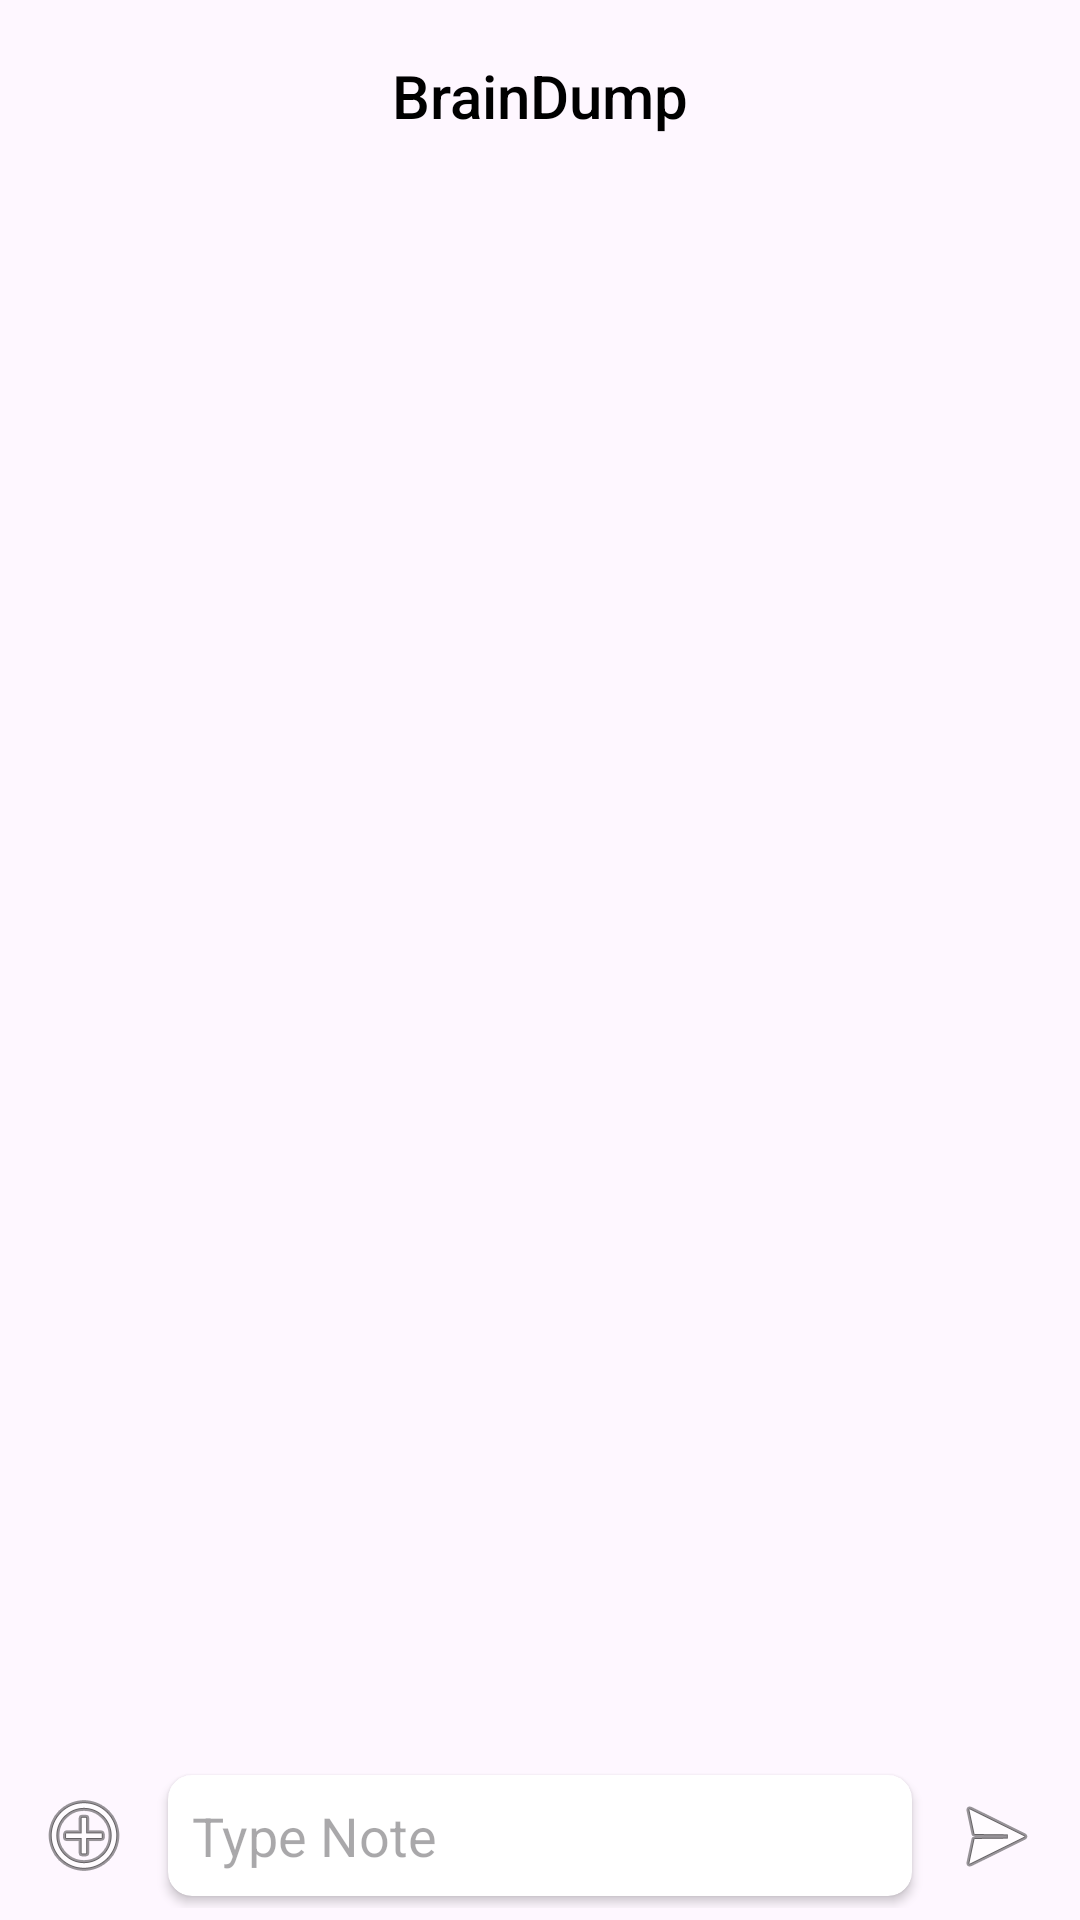

Where to tap for icons on this 1080w x 1920h app screen, as (x,y):
add: (84,1835)
send: (997,1836)
